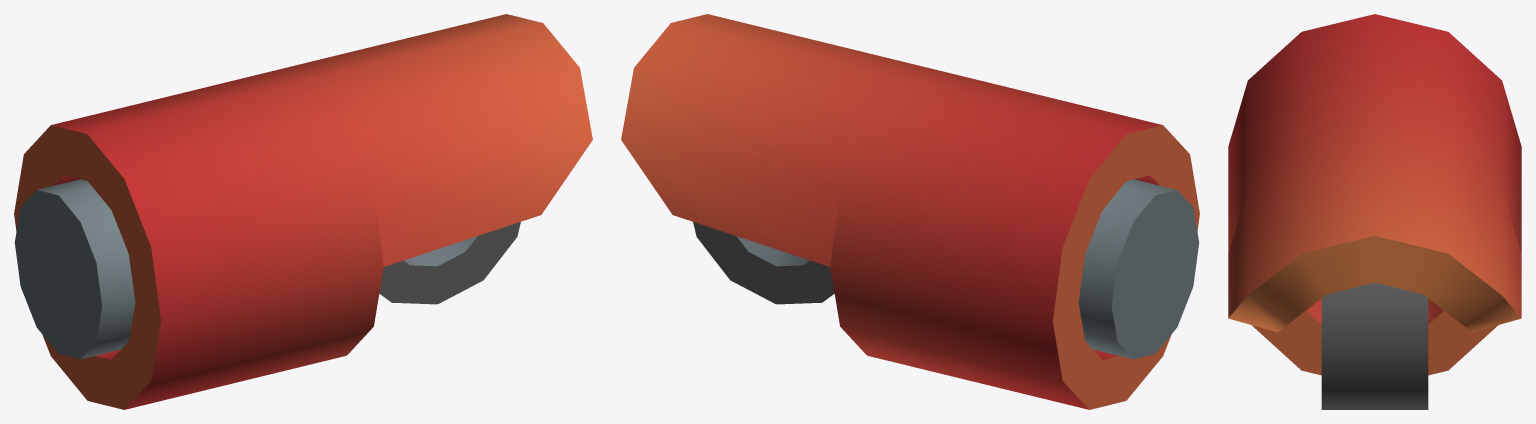
File: robot_arm_forearm.fbx
3 renders of one model, left to right at view 1: azimuth 30°, elevation 25°; view 2: azimuth 150°, elevation 25°; view 3: azimuth 270°, elevation 25°, orthographic.
Parts seen in each view (by area): view 1: Cylinder.014, Cylinder.010, Cylinder.012; view 2: Cylinder.014, Cylinder.010, Cylinder.012; view 3: Cylinder.014, Cylinder.012.
Boxes of the visible parts, <box> form: Cylinder.014: <box>14,14,592,409</box>; Cylinder.010: <box>14,179,135,359</box>; Cylinder.012: <box>379,222,520,304</box>; Cylinder.014: <box>621,14,1199,409</box>; Cylinder.010: <box>1078,179,1199,359</box>; Cylinder.012: <box>693,222,834,304</box>; Cylinder.014: <box>1228,14,1521,375</box>; Cylinder.012: <box>1321,282,1428,409</box>.
Bounding box in the file's own units: 0.092 × 0.0484 × 0.0484.
